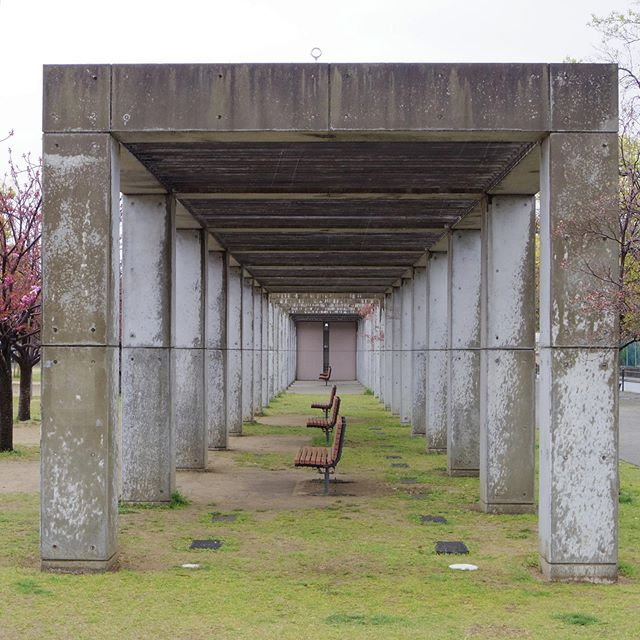bench: (292, 418, 349, 480), (300, 400, 348, 436), (310, 387, 341, 412)
collumn: (32, 127, 122, 579), (539, 122, 629, 574), (476, 193, 541, 513), (113, 187, 178, 507), (176, 226, 213, 470), (445, 223, 482, 467)
